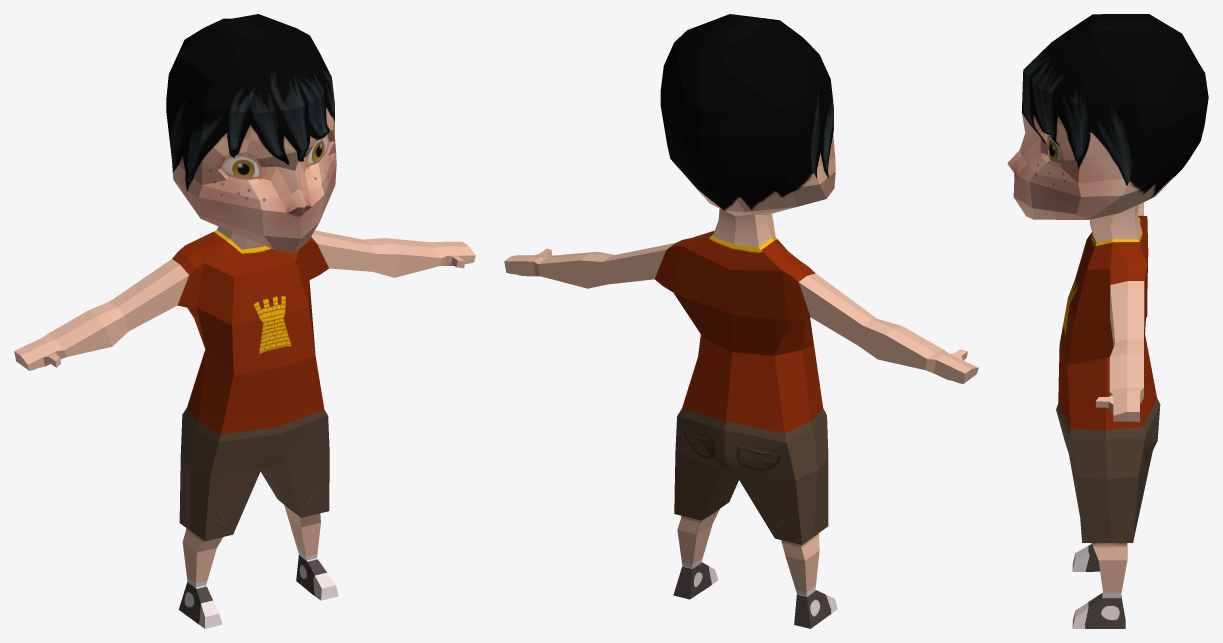
Rendered from npc-normal.fbx.
3 renders of one model, left to right at view 1: azimuth 30°, elevation 25°; view 2: azimuth 150°, elevation 25°; view 3: azimuth 270°, elevation 25°, orthographic. The views are drawn at different scales.
Parts seen in each view (by area): view 1: knightnpc:body:body:knightnpc:body:body:knightnpc:body:body:; view 2: knightnpc:body:body:knightnpc:body:body:knightnpc:body:body:; view 3: knightnpc:body:body:knightnpc:body:body:knightnpc:body:body:.
Boxes of the visible parts, x1,y1,x2,y2 form: knightnpc:body:body:knightnpc:body:body:knightnpc:body:body:: (14, 14, 475, 628); knightnpc:body:body:knightnpc:body:body:knightnpc:body:body:: (504, 14, 978, 628); knightnpc:body:body:knightnpc:body:body:knightnpc:body:body:: (1007, 14, 1208, 628).
Bounding box in the file's own units: 131 × 157 × 50.33.
1 material, 1 textured.
